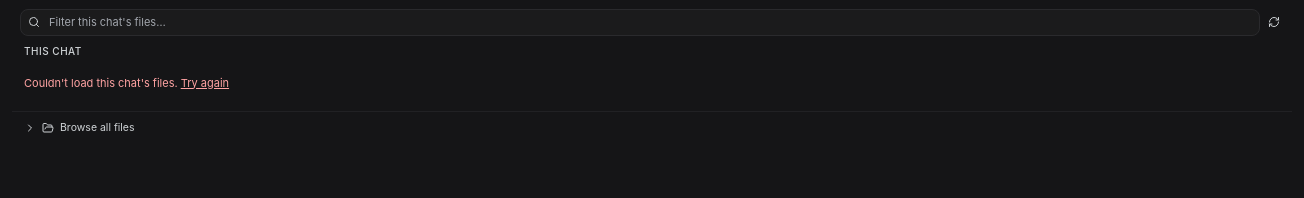
FilesPanel › shows an error with a retry when loading fails
Expected: the text "Couldn't load this chat's files. Try again" is shown, [24,74,229,91]
Click the button "Try again".
click(205, 83)  # box [181,74,229,91]
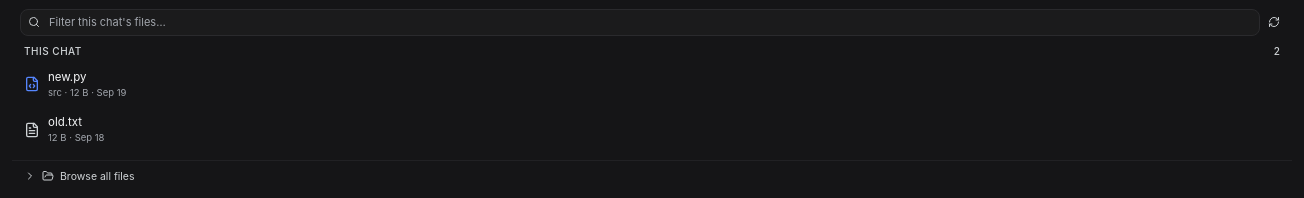
Expected: the button with test id "chat-file-old.txt" is shown, [24,115,104,143]
